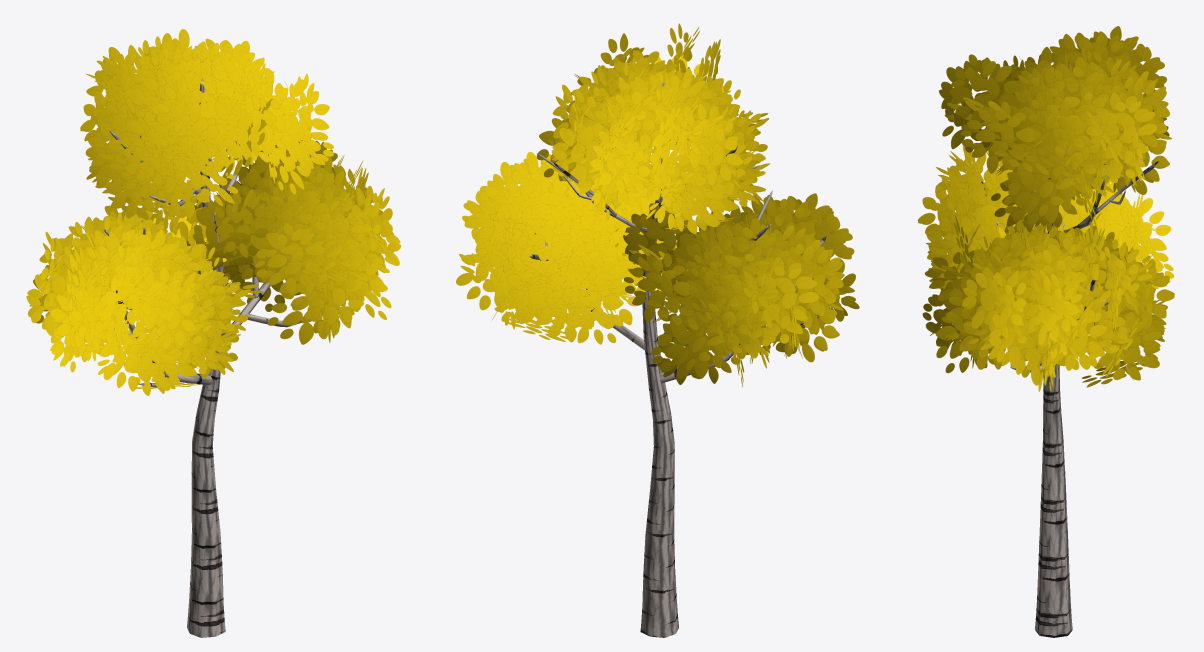
File: BirchTree_4.gltf
3 renders of one model, left to right at view 1: azimuth 30°, elevation 25°; view 2: azimuth 150°, elevation 25°; view 3: azimuth 270°, elevation 25°, orthographic.
Visible parts, largest first — view 1: BirchTree_4; view 2: BirchTree_4; view 3: BirchTree_4.
Part boxes in pixels (x1,y1,x2,y2): BirchTree_4: (26, 29, 400, 637); BirchTree_4: (456, 23, 859, 637); BirchTree_4: (918, 26, 1174, 637).
Bounding box in the file's own units: 2.78 × 4.21 × 1.84.
2 materials, 2 textured.
